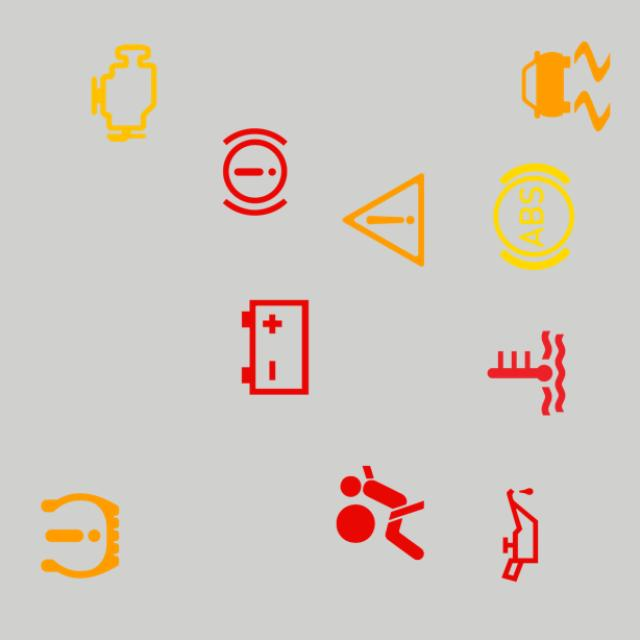Anti Lock Braking System: (475, 159, 592, 275)
Braking System Issue: (197, 114, 314, 230)
Charging System Issue: (217, 289, 333, 405)
Check Engine: (66, 35, 182, 151)
Electronic Stability Problem -ESP-: (508, 28, 624, 145)
Engine Overheating Warning Light: (468, 315, 585, 431)
Low Engine Oil Warning Light: (462, 476, 578, 593)
Low Tire Pressure Warning Light: (22, 478, 139, 594)
Master warning light: (325, 162, 442, 278)
SRS-Airbag: (322, 455, 439, 571)
